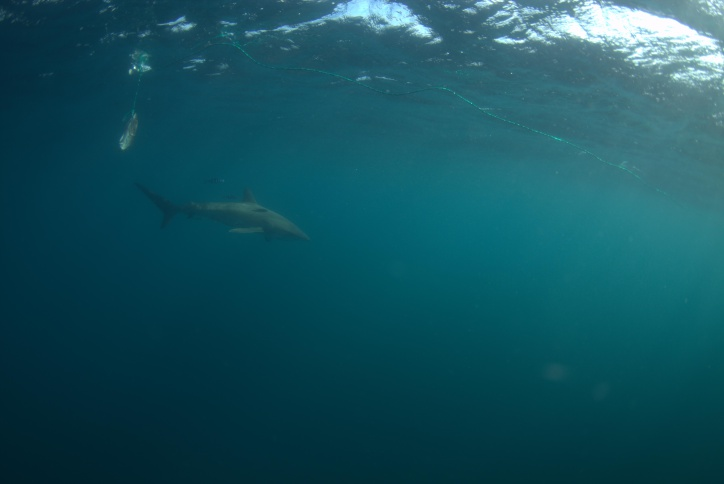Sedoso: (117, 177, 317, 247)
